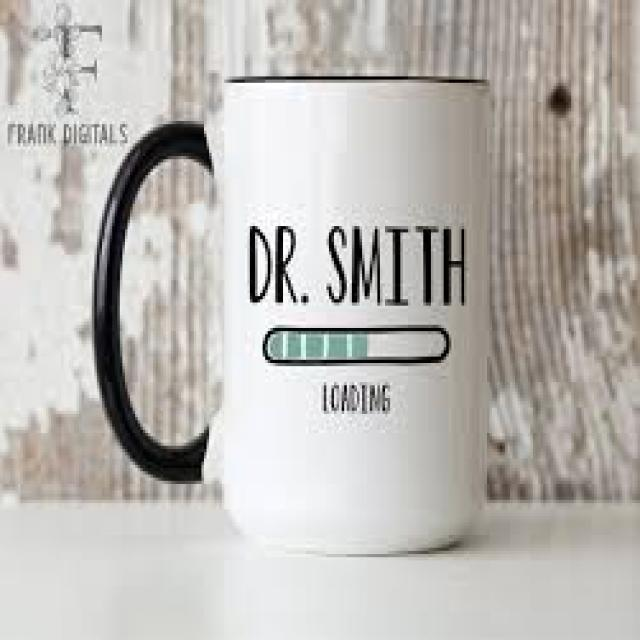taza: (74, 56, 520, 578)
